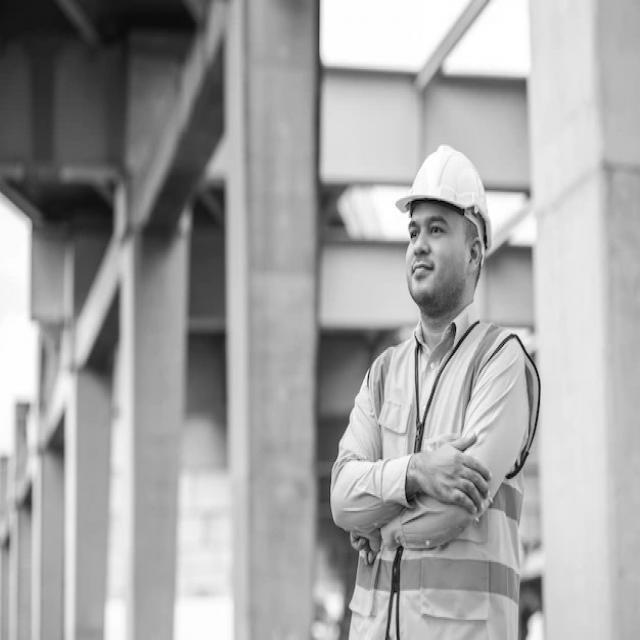safety_helmet: (394, 144, 488, 247)
